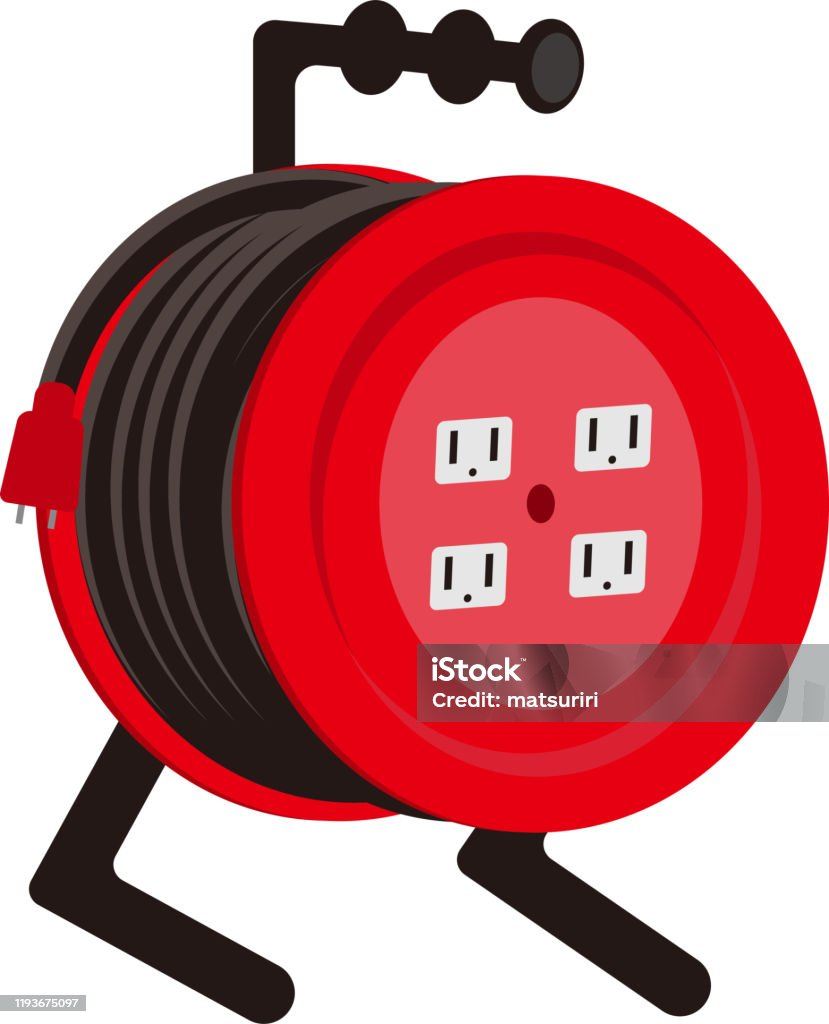socket: (20, 173, 825, 828)
